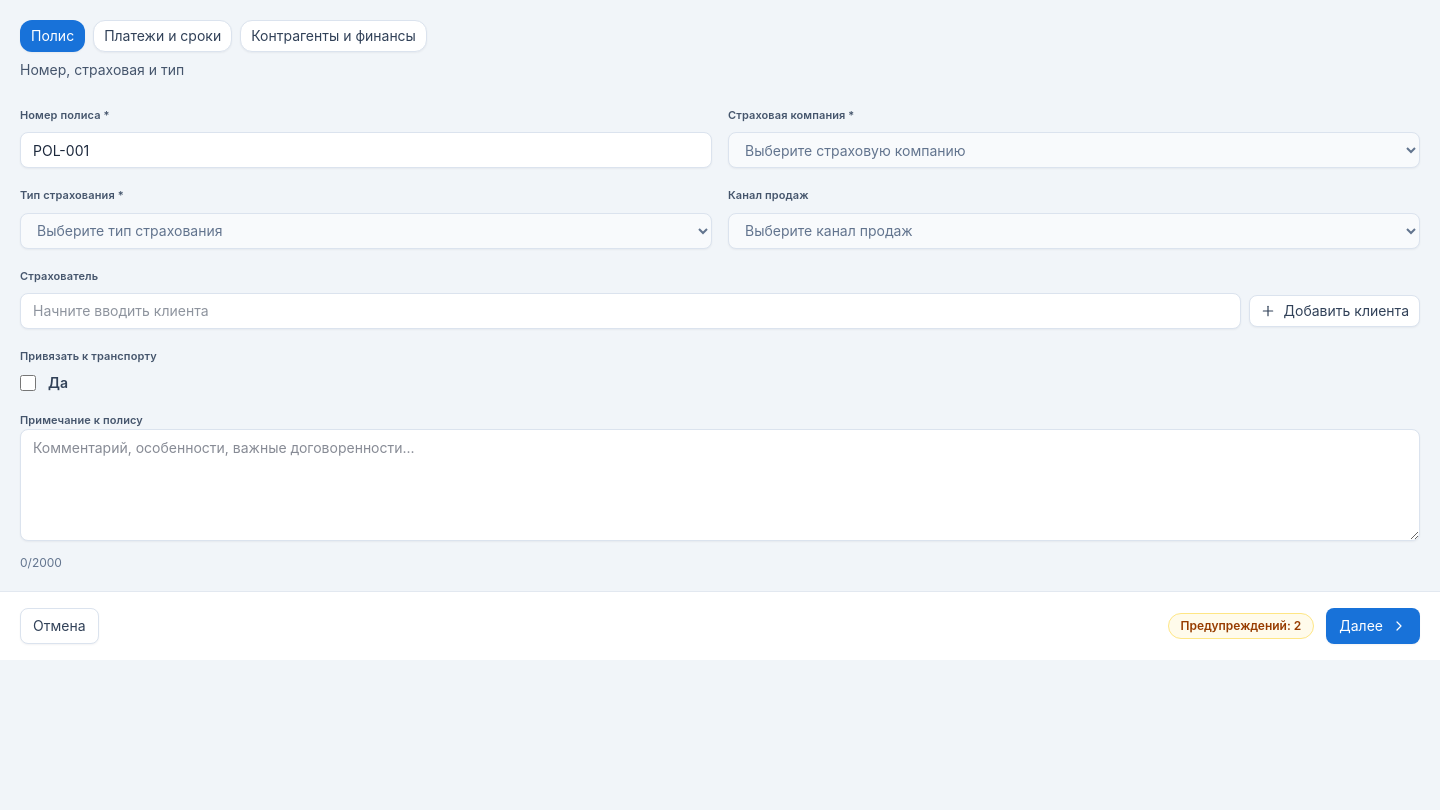
AddPolicyForm › computes the first payment warning using the earliest scheduled date instead of raw array order
Click the button "Платежи и сроки" at {"x": 163, "y": 36}, box [93, 20, 232, 52]
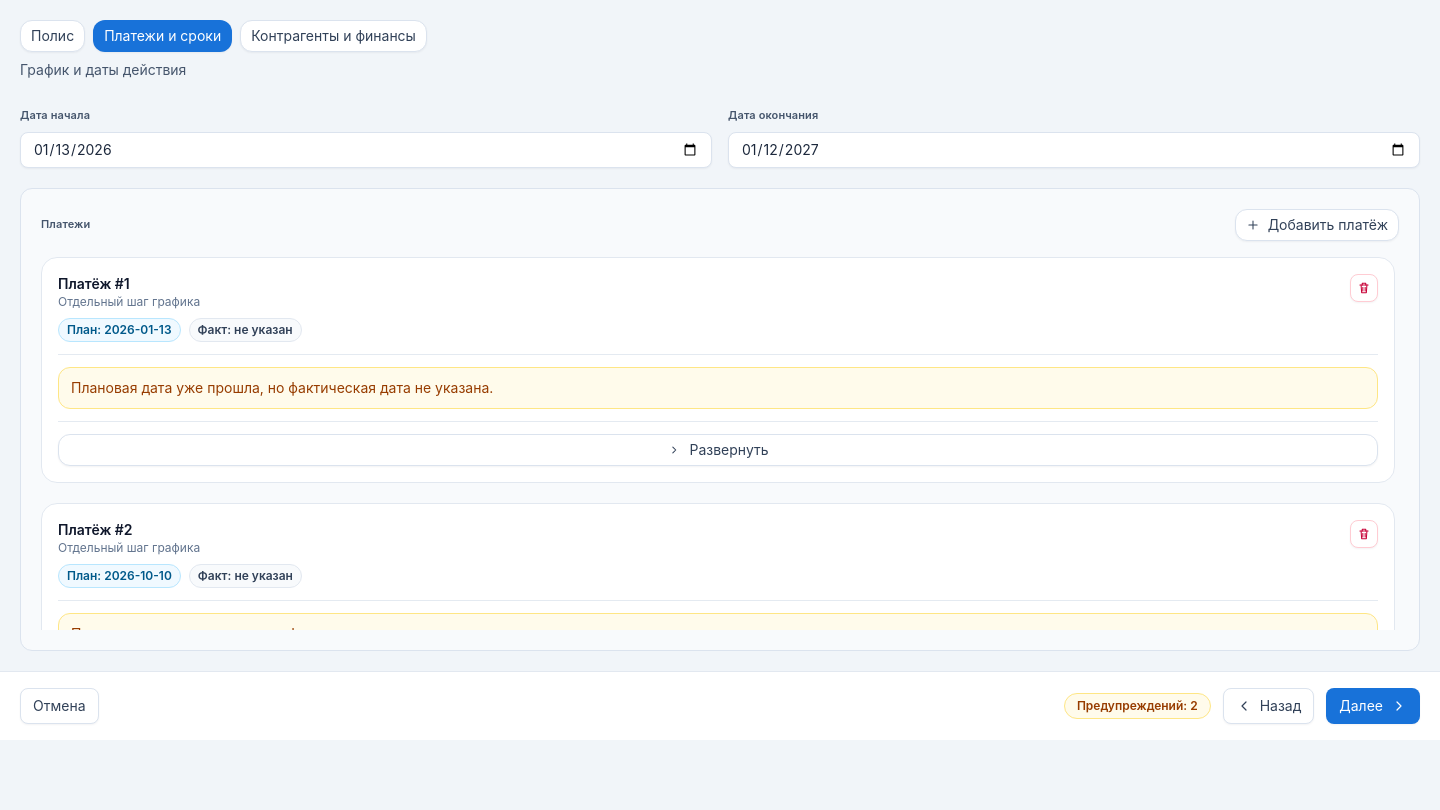
Result: the number of elements with test id "policy-payment-card" is 2
